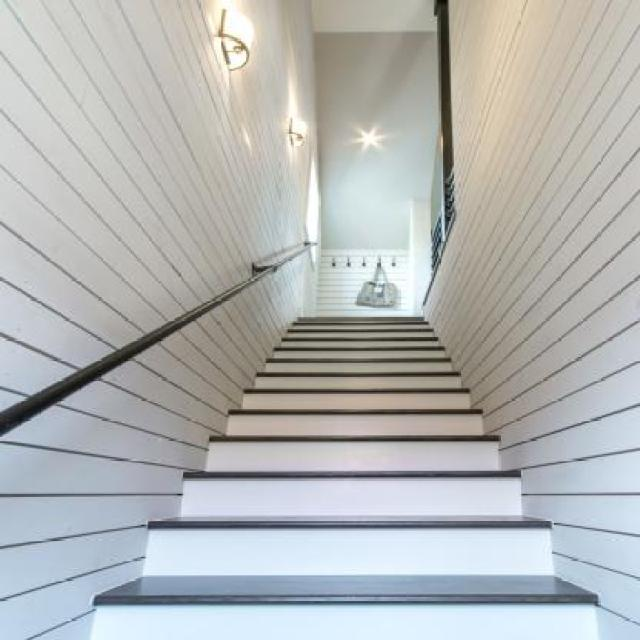stair: (36, 283, 613, 640)
